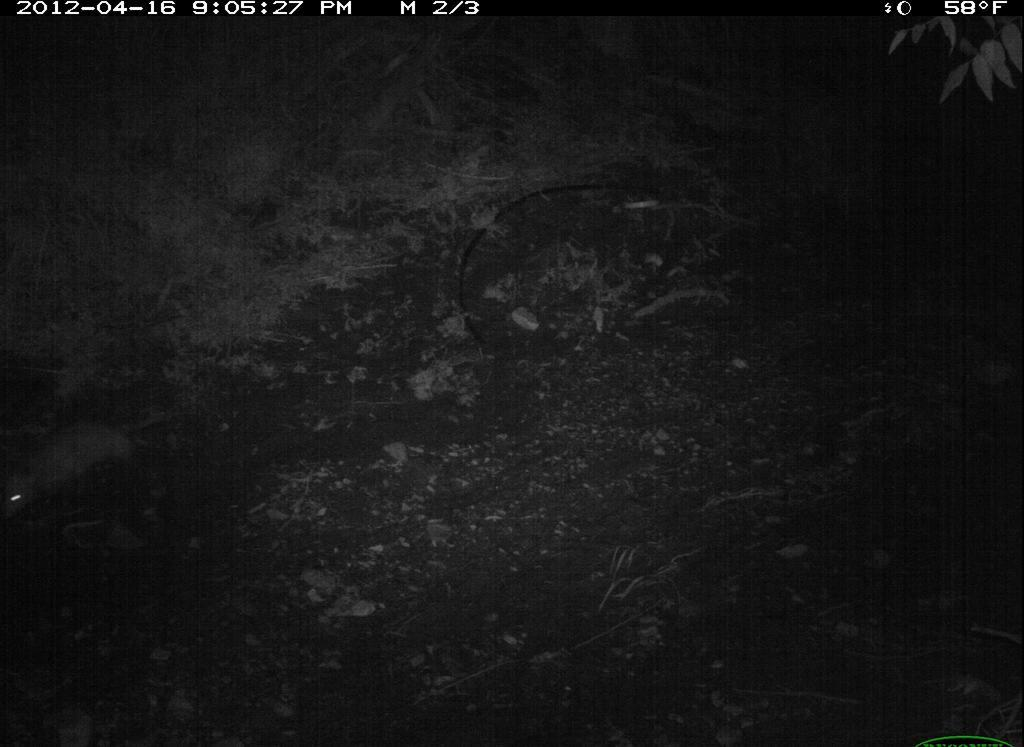opossum: (3, 410, 180, 529)
